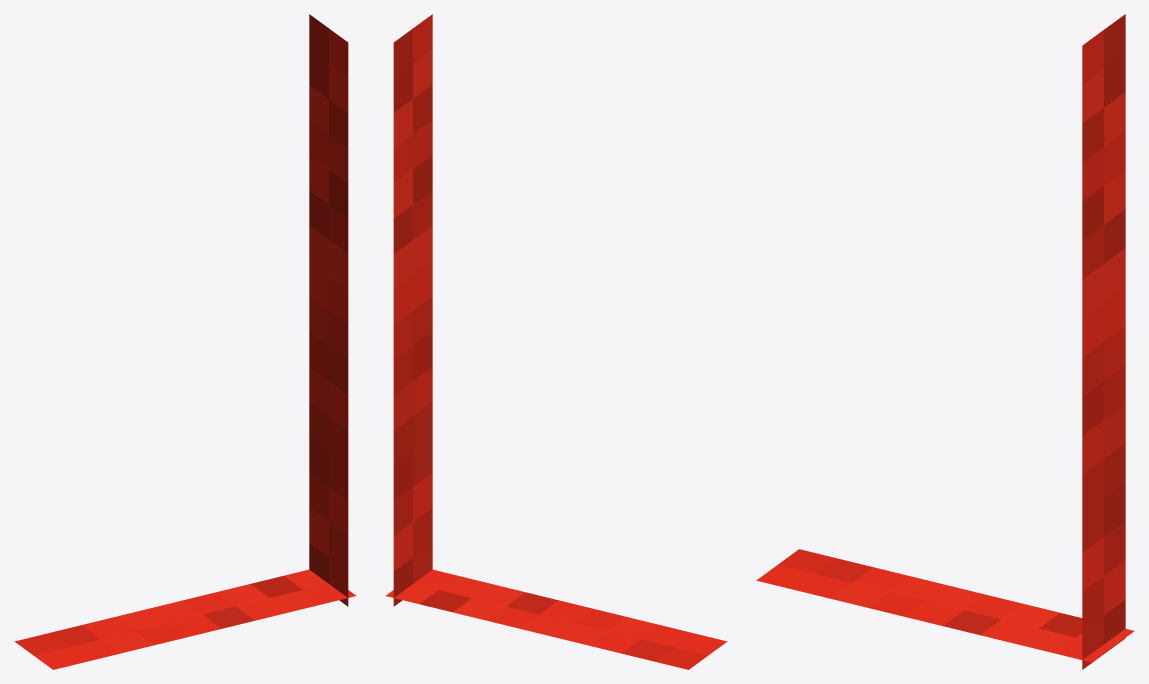
File: dust_on_2000.gltf
3 views of the same model, side by side, from view 1: azimuth 30°, elevation 25°; view 2: azimuth 150°, elevation 25°; view 3: azimuth 330°, elevation 25° (orthographic). The views are drawn at different scales.
Parts seen in each view (by area): view 1: dust_on_2000; view 2: dust_on_2000; view 3: dust_on_2000.
Boxes of the visible parts, <box> form: dust_on_2000: <box>14,14,355,669</box>; dust_on_2000: <box>386,14,727,669</box>; dust_on_2000: <box>756,14,1134,669</box>.
Bounding box in the file's own units: 0.5625 × 1 × 0.125.
1 material, 1 textured.
